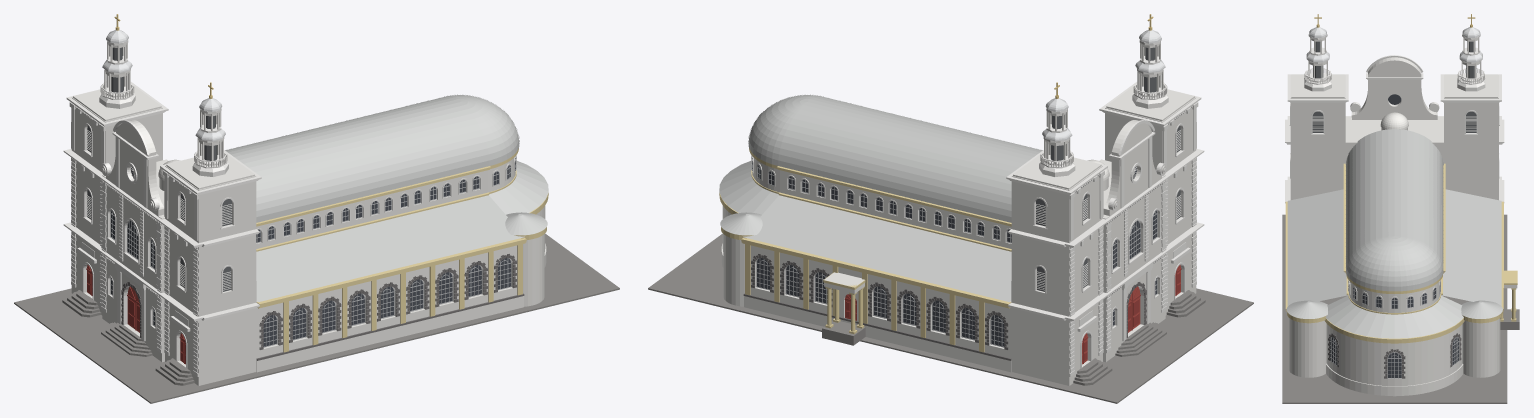
File: mouillage-actuel-mo.glb
3 views of the same model, side by side, from view 1: azimuth 30°, elevation 25°; view 2: azimuth 150°, elevation 25°; view 3: azimuth 270°, elevation 25° (orthographic). The views are drawn at different scales.
Visible parts, largest first — view 1: Toitures_Toit_Metal, Facade_Enduit_Blanc, Modenature_Modenature, Corps_Enduit_Blanc, Parvis_Pierre_Marches, Ouvertures_Vitrage, Couronnement_Enduit_Blanc, Menuiseries_Menuiserie, Modenature_Jaune, Corps_Jaune, Basalte_Basalte, Couronnement_Modenature (+7 smaller); view 2: Toitures_Toit_Metal, Facade_Enduit_Blanc, Modenature_Modenature, Corps_Enduit_Blanc, Parvis_Pierre_Marches, Ouvertures_Vitrage, Couronnement_Enduit_Blanc, Modenature_Jaune, Menuiseries_Menuiserie, Corps_Jaune, Basalte_Basalte, Couronnement_Modenature (+11 smaller); view 3: Toitures_Toit_Metal, Facade_Enduit_Blanc, Corps_Enduit_Blanc, Parvis_Pierre_Marches, Modenature_Modenature, Couronnement_Enduit_Blanc, Corps_Jaune, Modenature_Jaune, Couronnement_Modenature, Ouvertures_Vitrage, Menuiseries_Menuiserie, Couronnement_Cuivre_Etame (+7 smaller).
Part boxes in pixels (<box>): Toitures_Toit_Metal: <box>225,94,548,301</box>; Facade_Enduit_Blanc: <box>71,97,256,385</box>; Modenature_Modenature: <box>63,82,516,376</box>; Corps_Enduit_Blanc: <box>256,157,546,372</box>; Parvis_Pierre_Marches: <box>14,234,619,403</box>; Ouvertures_Vitrage: <box>111,158,515,346</box>; Couronnement_Enduit_Blanc: <box>73,42,254,189</box>; Menuiseries_Menuiserie: <box>110,157,516,347</box>; Modenature_Jaune: <box>256,166,526,308</box>; Corps_Jaune: <box>283,148,548,352</box>; Basalte_Basalte: <box>121,253,516,349</box>; Couronnement_Modenature: <box>99,39,228,176</box>; Toitures_Toit_Metal: <box>719,94,1042,301</box>; Facade_Enduit_Blanc: <box>1011,97,1196,385</box>; Modenature_Modenature: <box>751,82,1204,376</box>; Corps_Enduit_Blanc: <box>721,157,1011,372</box>; Parvis_Pierre_Marches: <box>648,234,1253,403</box>; Ouvertures_Vitrage: <box>752,158,1156,346</box>; Couronnement_Enduit_Blanc: <box>1013,42,1194,189</box>; Modenature_Jaune: <box>741,166,1011,308</box>; Menuiseries_Menuiserie: <box>751,157,1157,347</box>; Corps_Jaune: <box>719,148,984,352</box>; Basalte_Basalte: <box>751,253,1146,349</box>; Couronnement_Modenature: <box>1039,39,1168,176</box>; Toitures_Toit_Metal: <box>1286,129,1502,338</box>; Facade_Enduit_Blanc: <box>1290,57,1498,200</box>; Corps_Enduit_Blanc: <box>1289,281,1500,396</box>; Parvis_Pierre_Marches: <box>1282,214,1507,403</box>; Modenature_Modenature: <box>1285,55,1504,308</box>; Couronnement_Enduit_Blanc: <box>1291,38,1497,97</box>; Corps_Jaune: <box>1287,274,1502,343</box>; Modenature_Jaune: <box>1285,163,1503,311</box>; Couronnement_Modenature: <box>1304,34,1485,91</box>; Ouvertures_Vitrage: <box>1330,94,1458,377</box>; Menuiseries_Menuiserie: <box>1330,281,1459,378</box>; Couronnement_Cuivre_Etame: <box>1306,27,1482,62</box>.
Size of the model in its own units: 53.41 by 31.06 by 28.5.
